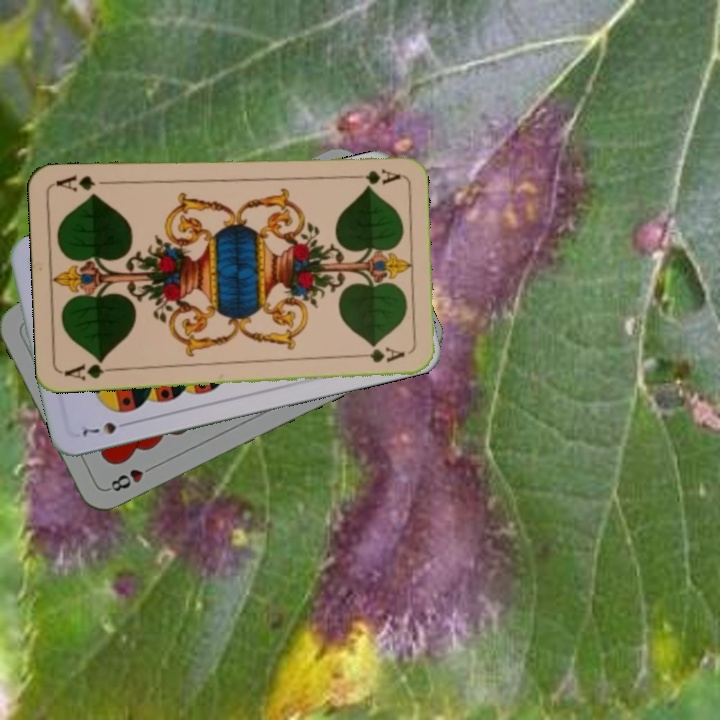GA: (61, 355, 120, 383), (343, 164, 402, 185)
H8: (103, 461, 158, 495)
S7: (78, 417, 134, 438)
